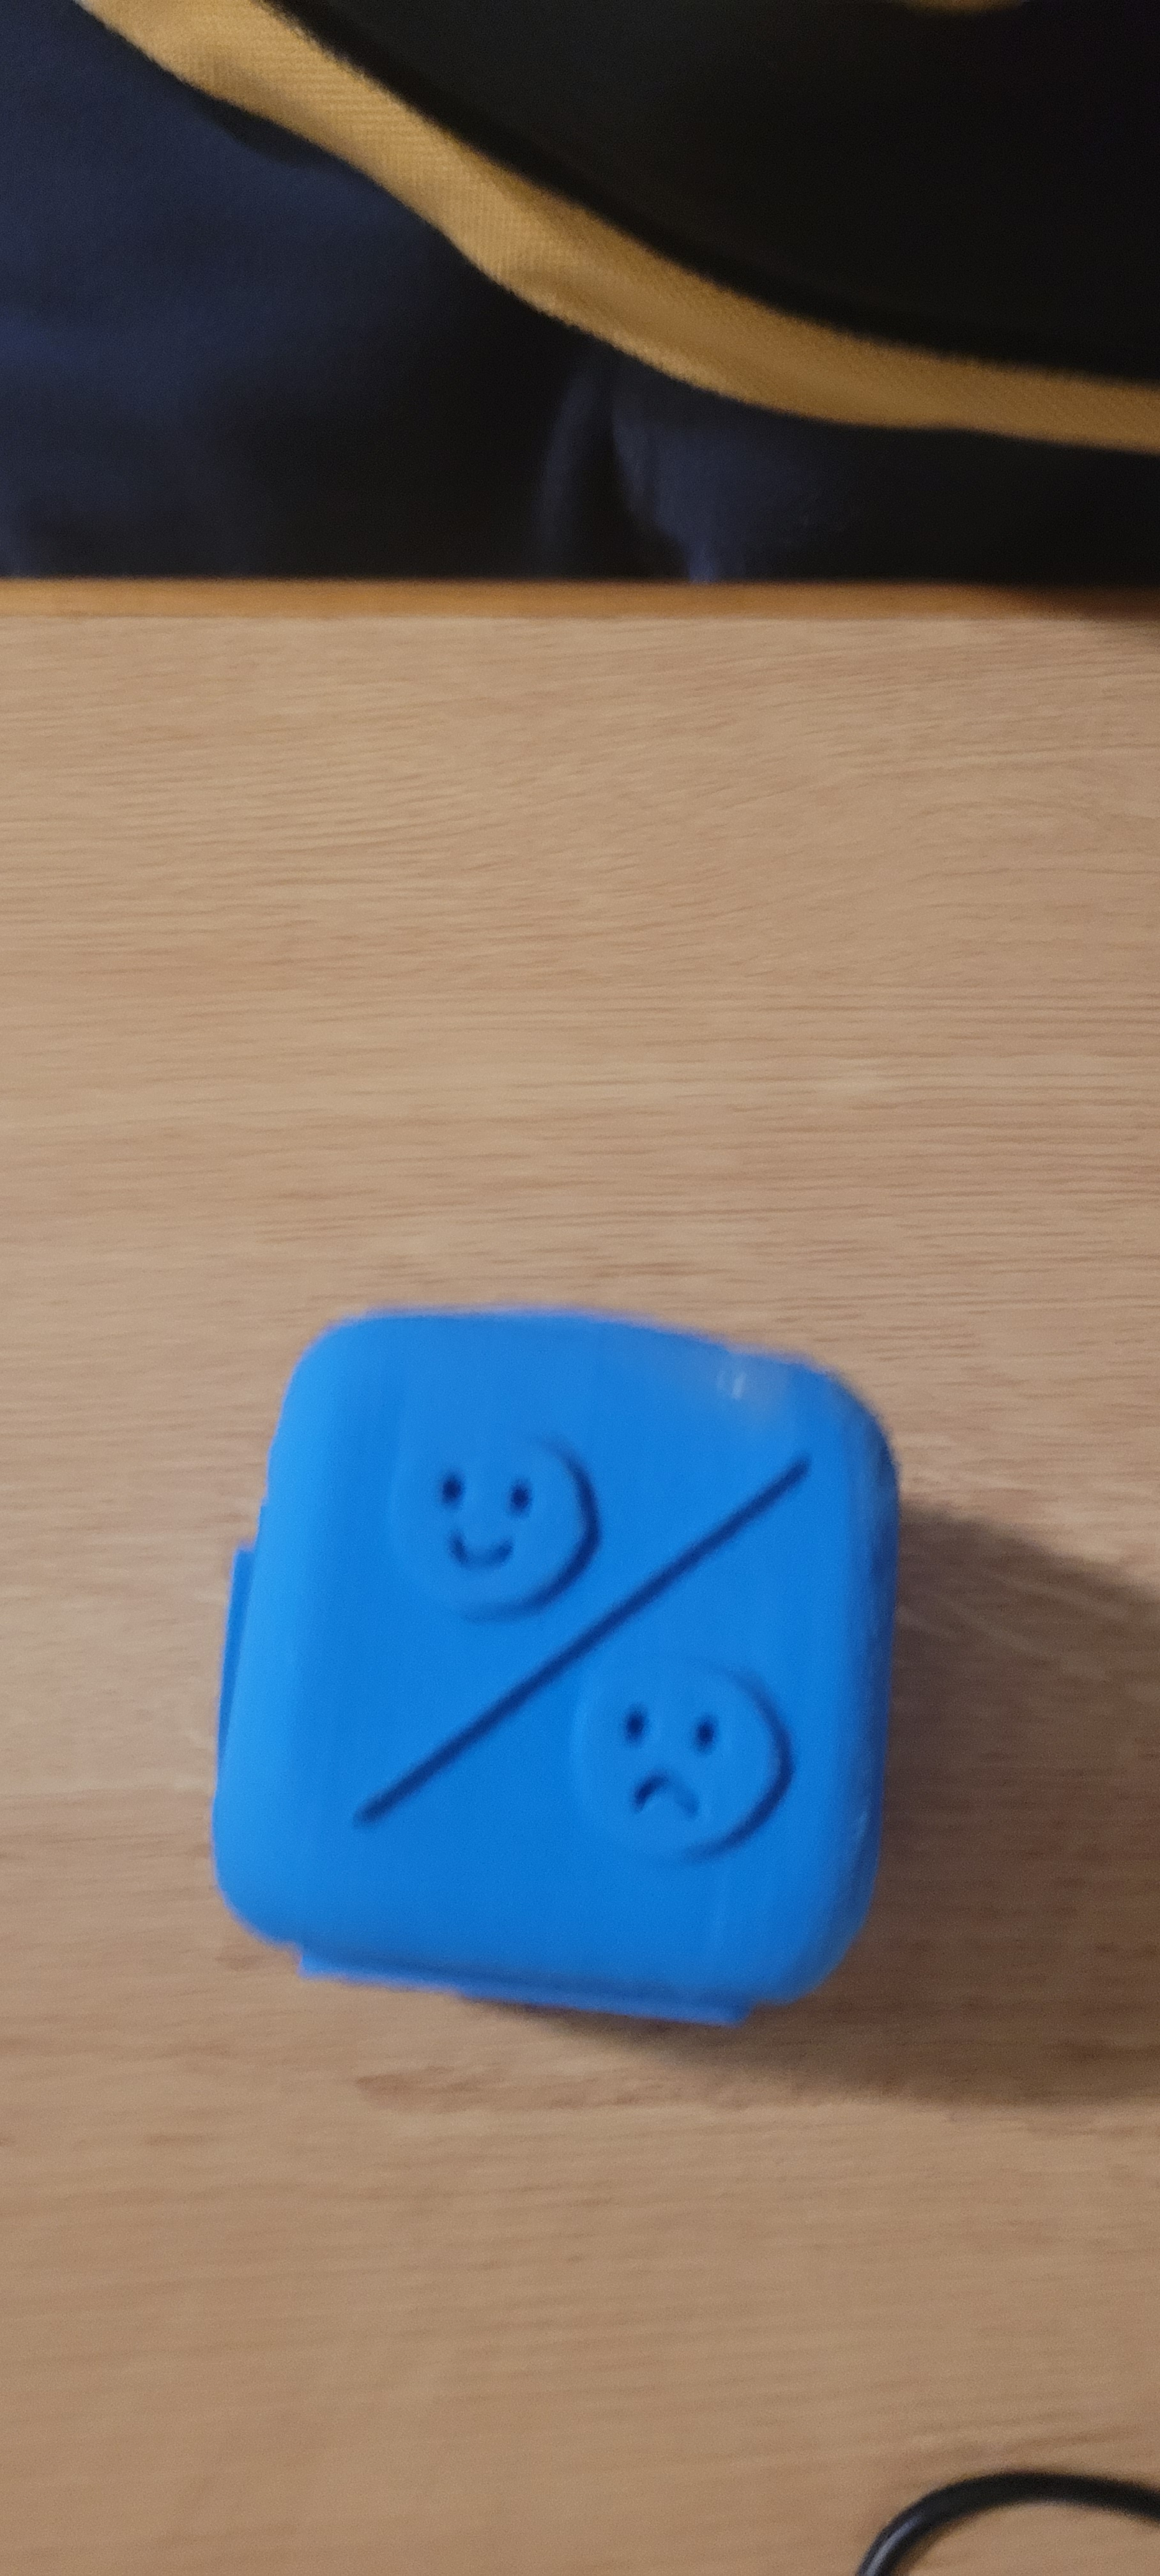Like/Dislike: (242, 1281, 884, 1973)
